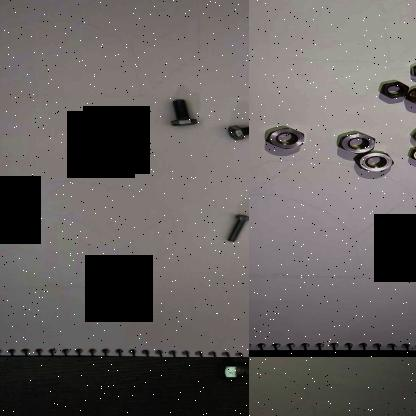Bolts: (157, 96, 203, 127), (86, 122, 122, 160), (215, 357, 249, 385), (222, 211, 249, 241), (223, 121, 249, 141)
NUTS: (264, 126, 312, 150), (353, 148, 396, 174), (336, 130, 378, 154), (378, 74, 410, 100), (403, 85, 416, 107), (407, 60, 416, 80), (406, 145, 416, 162), (408, 126, 416, 144)
